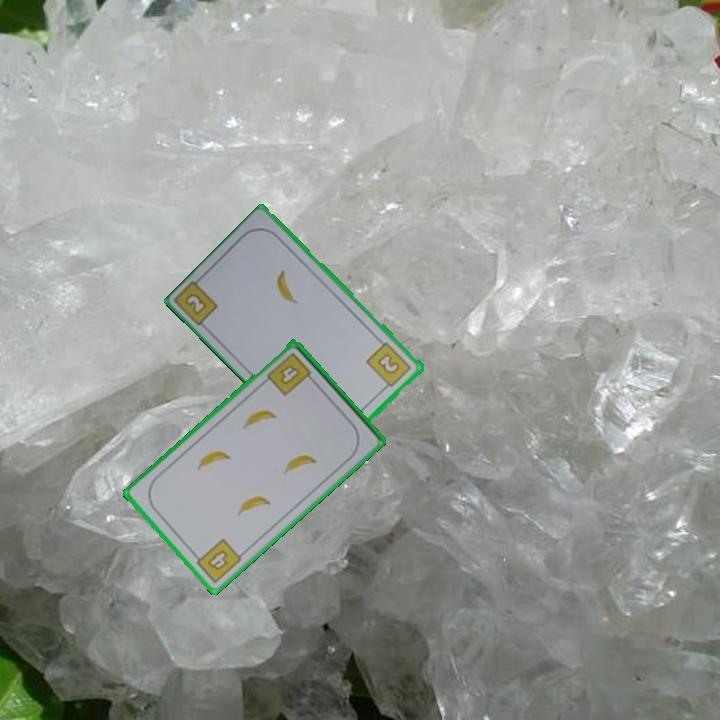2b: (363, 339, 415, 393), (183, 292, 207, 315)
4b: (189, 535, 245, 586), (263, 349, 318, 399)
